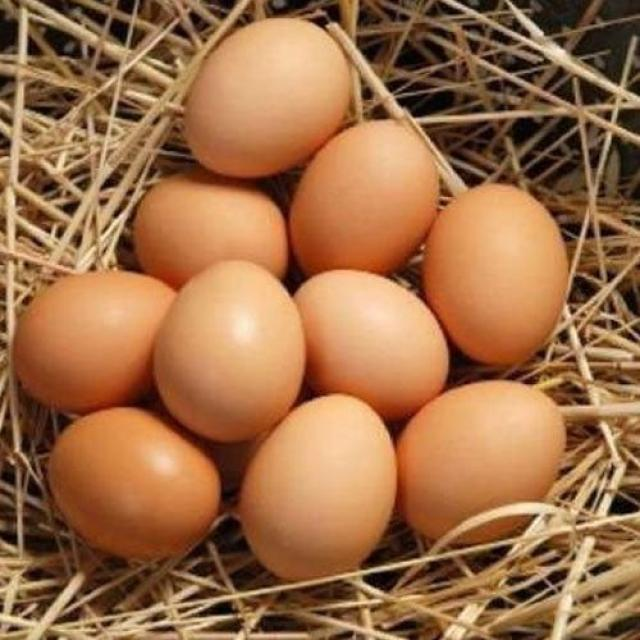Egg: (15, 260, 449, 442), (239, 395, 396, 579), (398, 381, 566, 538), (185, 19, 351, 177), (49, 408, 219, 561), (290, 120, 439, 274), (135, 171, 288, 286)
